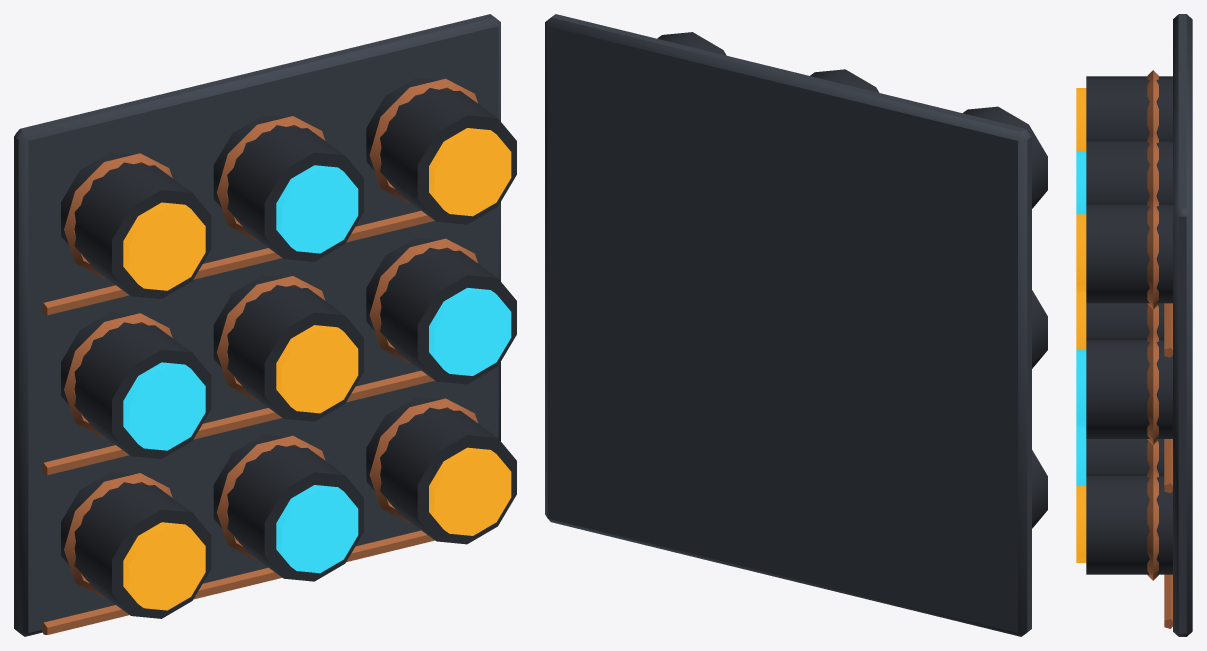
The model's file is capacitor_capacitor_wall_array.glb.
3 views of the same model, side by side, from view 1: azimuth 30°, elevation 25°; view 2: azimuth 150°, elevation 25°; view 3: azimuth 270°, elevation 25° (orthographic). The views are drawn at different scales.
Parts seen in each view (by area): view 1: capacitor_capacitor_wall_array; view 2: capacitor_capacitor_wall_array; view 3: capacitor_capacitor_wall_array.
Boxes of the visible parts, x1,y1,x2,y2 form: capacitor_capacitor_wall_array: (14,14,516,636); capacitor_capacitor_wall_array: (545,14,1047,636); capacitor_capacitor_wall_array: (1076,14,1192,636).
Size of the model in its own units: 1.2 by 1.2 by 0.295.
